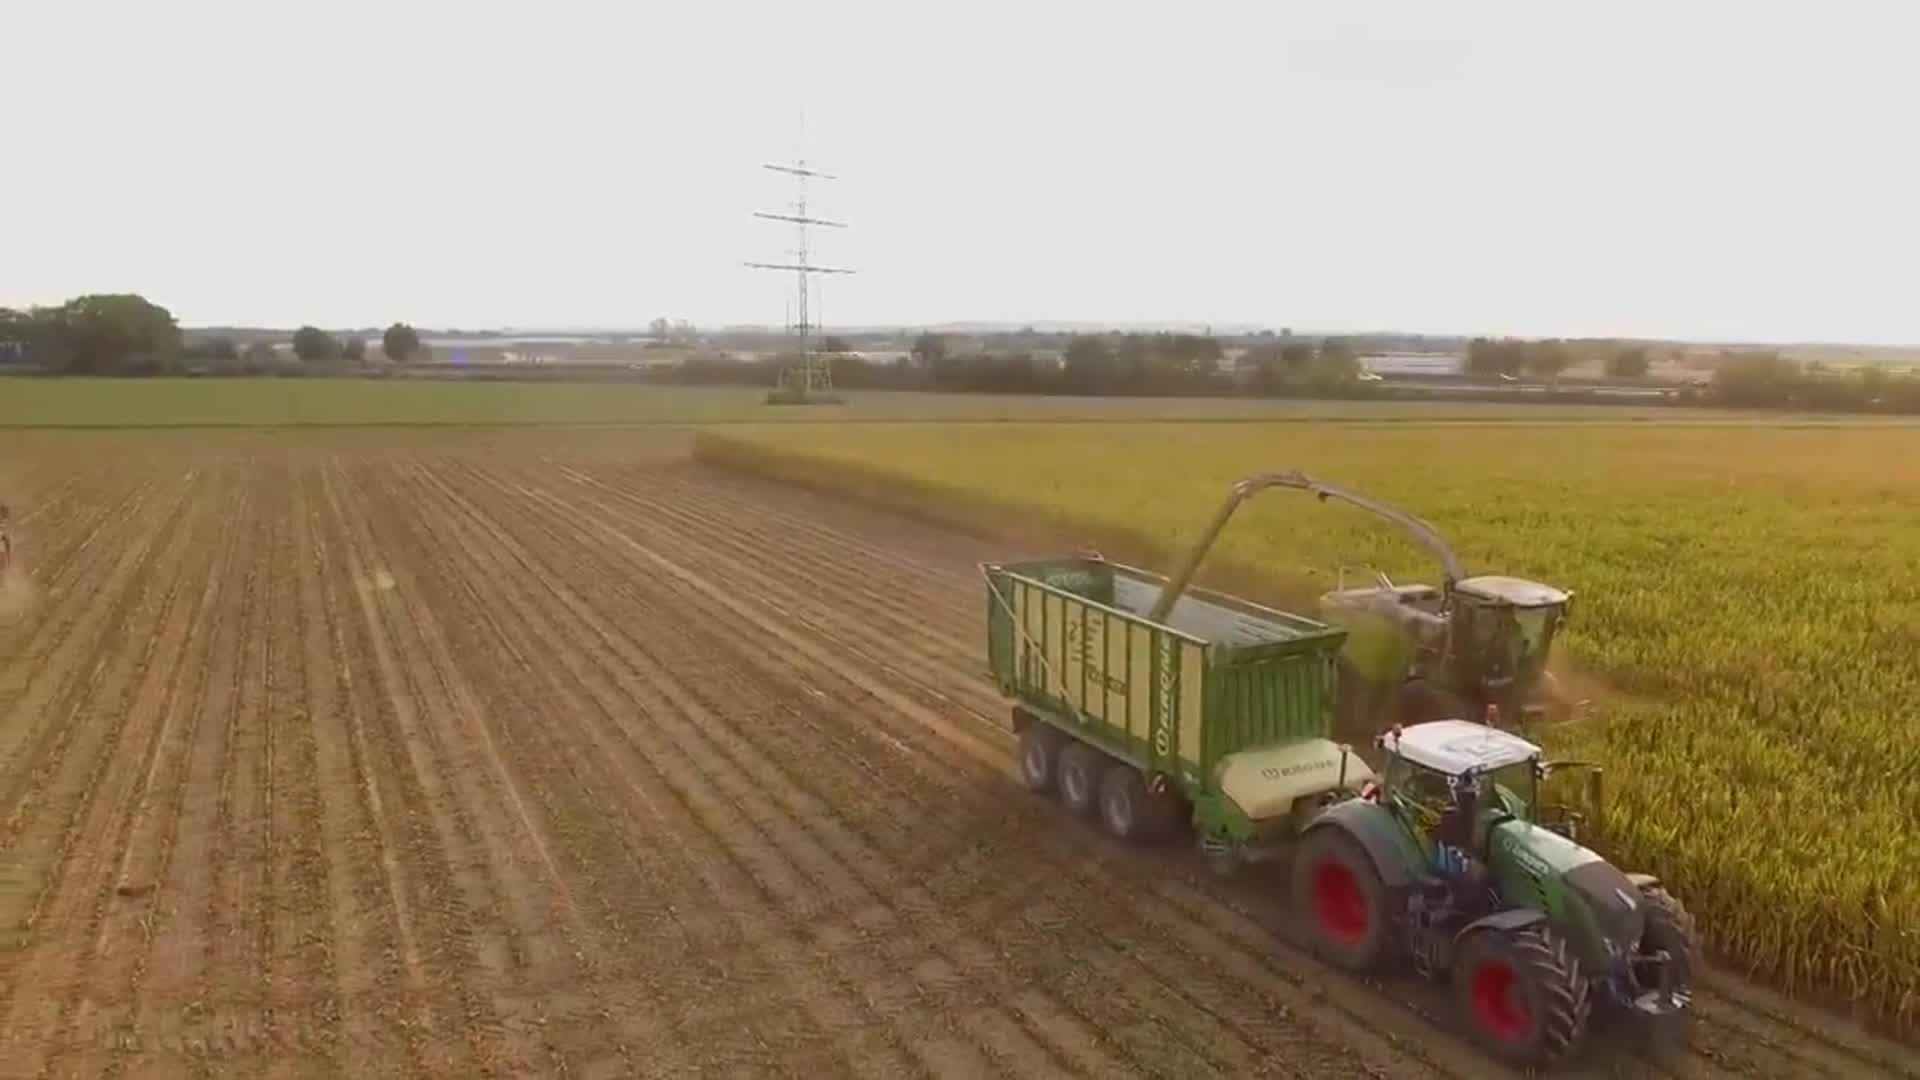combine harvester: (1223, 464, 1611, 771)
tractor: (1271, 703, 1716, 1077)
trailer: (964, 533, 1383, 884)
